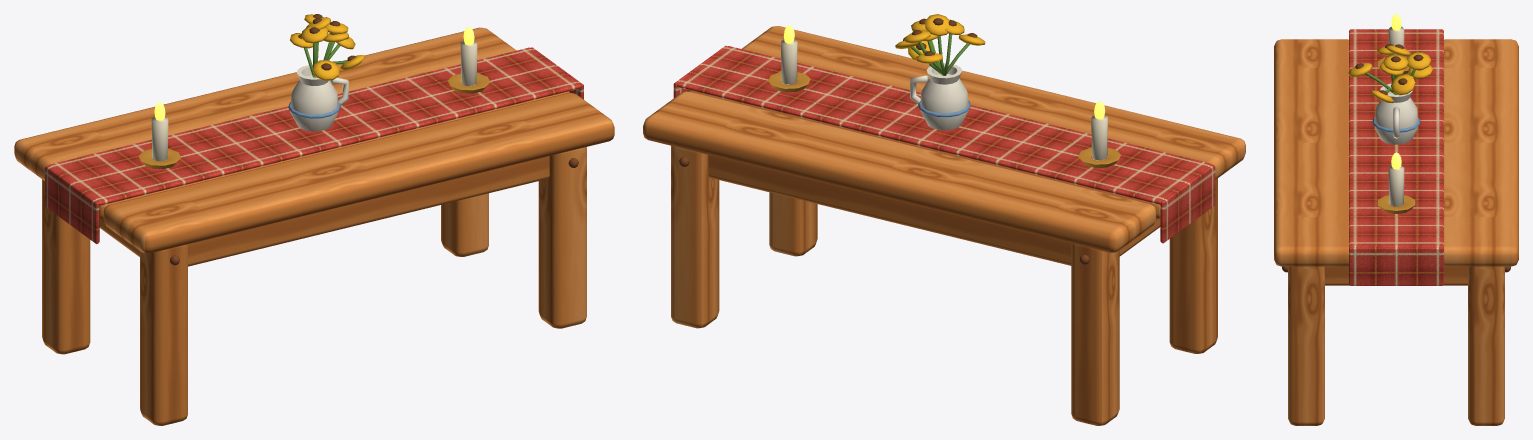
File: dining_table.glb
The picture shows the model from 3 angles, left to right: view 1: azimuth 30°, elevation 25°; view 2: azimuth 150°, elevation 25°; view 3: azimuth 270°, elevation 25°; orthographic projection. The views are drawn at different scales.
Parts seen in each view (by area): view 1: model; view 2: model; view 3: model.
Part boxes in pixels (x1=…): model: x1=14, y1=14, x2=614, y2=425; model: x1=643, y1=14, x2=1245, y2=425; model: x1=1274, y1=14, x2=1518, y2=425.
Size of the model in its own units: 1.96 by 1.2 by 0.925.
Materials: 11 (2 with a texture image).
